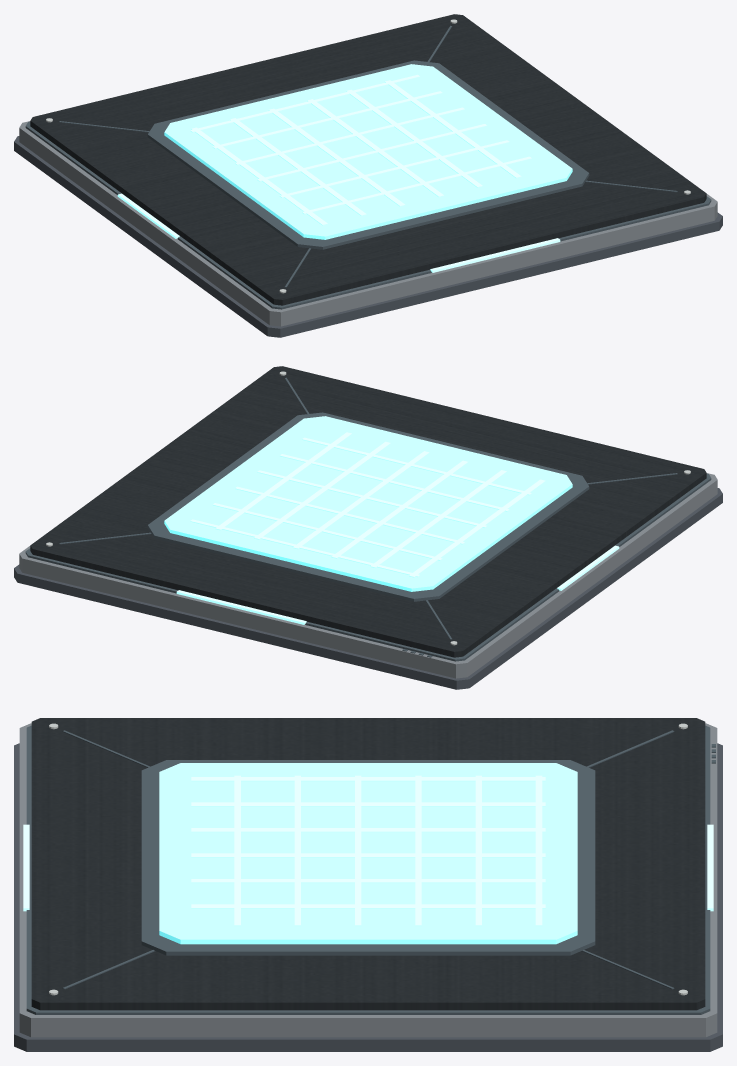
File: m03-metal-service-led-panel.glb
The picture shows the model from 3 angles, top to bottom: view 1: azimuth 30°, elevation 25°; view 2: azimuth 150°, elevation 25°; view 3: azimuth 270°, elevation 25°; orthographic projection. The views are drawn at different scales.
Visible parts, largest first — view 1: service-led-panel/003, service-led-panel/021, service-led-panel/001, service-led-panel/000, service-led-panel/020, service-led-panel/002, service-led-panel/027, service-led-panel/022, service-led-panel/024, service-led-panel/023, service-led-panel/025, service-led-panel/026 (+7 smaller); view 2: service-led-panel/003, service-led-panel/021, service-led-panel/001, service-led-panel/000, service-led-panel/020, service-led-panel/002, service-led-panel/025, service-led-panel/023, service-led-panel/024, service-led-panel/022, service-led-panel/027, service-led-panel/026 (+7 smaller); view 3: service-led-panel/003, service-led-panel/021, service-led-panel/001, service-led-panel/000, service-led-panel/020, service-led-panel/002, service-led-panel/023, service-led-panel/022, service-led-panel/024, service-led-panel/026, service-led-panel/025, service-led-panel/027 (+8 smaller).
Part boxes in pixels (x1=…): service-led-panel/003: x1=30, y1=14, x2=706, y2=305; service-led-panel/021: x1=164, y1=64, x2=572, y2=239; service-led-panel/001: x1=19, y1=121, x2=717, y2=326; service-led-panel/000: x1=14, y1=136, x2=722, y2=337; service-led-panel/020: x1=147, y1=60, x2=589, y2=249; service-led-panel/002: x1=25, y1=121, x2=711, y2=309; service-led-panel/027: x1=385, y1=80, x2=521, y2=178; service-led-panel/022: x1=191, y1=127, x2=327, y2=225; service-led-panel/024: x1=268, y1=108, x2=405, y2=206; service-led-panel/023: x1=230, y1=118, x2=366, y2=215; service-led-panel/025: x1=307, y1=99, x2=444, y2=197; service-led-panel/026: x1=346, y1=89, x2=482, y2=187; service-led-panel/003: x1=30, y1=366, x2=706, y2=657; service-led-panel/021: x1=164, y1=416, x2=572, y2=591; service-led-panel/001: x1=19, y1=473, x2=717, y2=678; service-led-panel/000: x1=14, y1=488, x2=722, y2=689; service-led-panel/020: x1=147, y1=412, x2=589, y2=601; service-led-panel/002: x1=25, y1=473, x2=711, y2=661; service-led-panel/025: x1=292, y1=451, x2=429, y2=549; service-led-panel/023: x1=370, y1=470, x2=506, y2=567; service-led-panel/024: x1=331, y1=460, x2=468, y2=558; service-led-panel/022: x1=409, y1=479, x2=545, y2=577; service-led-panel/027: x1=215, y1=432, x2=351, y2=530; service-led-panel/026: x1=254, y1=441, x2=390, y2=539; service-led-panel/003: x1=31, y1=718, x2=705, y2=1010; service-led-panel/021: x1=159, y1=763, x2=577, y2=944; service-led-panel/001: x1=19, y1=723, x2=717, y2=1037; service-led-panel/000: x1=14, y1=743, x2=722, y2=1051; service-led-panel/020: x1=141, y1=760, x2=595, y2=955; service-led-panel/002: x1=26, y1=725, x2=710, y2=1014; service-led-panel/023: x1=191, y1=802, x2=545, y2=806; service-led-panel/022: x1=191, y1=777, x2=545, y2=781; service-led-panel/024: x1=191, y1=828, x2=545, y2=832; service-led-panel/026: x1=191, y1=879, x2=545, y2=883; service-led-panel/025: x1=191, y1=853, x2=545, y2=857; service-led-panel/027: x1=191, y1=904, x2=545, y2=908.
Bounding box in the file's own units: 1 × 0.0805 × 1.
Materials: 7 (1 with a texture image).
